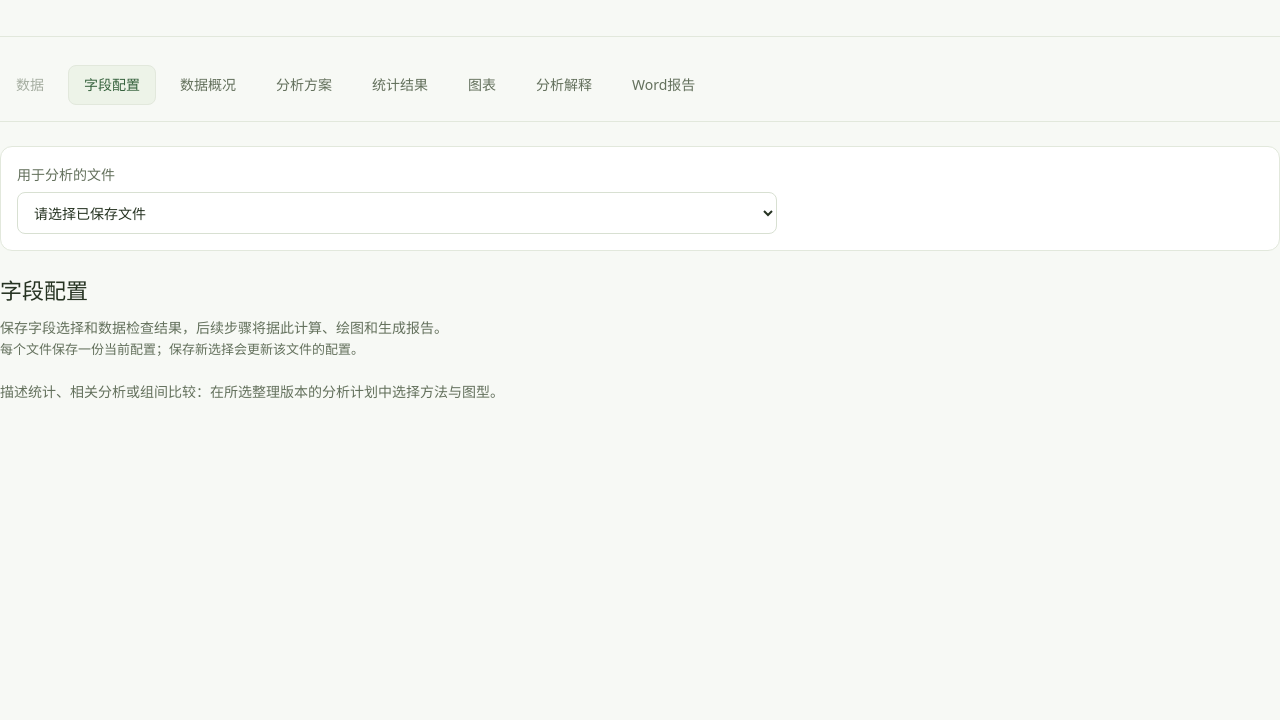
Test case: legacy configuration and results remain readable while execution requires explicitly saved dataset source
The width and height of the screenshot is (1280, 720).
Select "研究.xlsx · 2026/10/10 01:00:00" in the dropdown labelled "用于分析的文件": (397,213) [17,192,777,234]
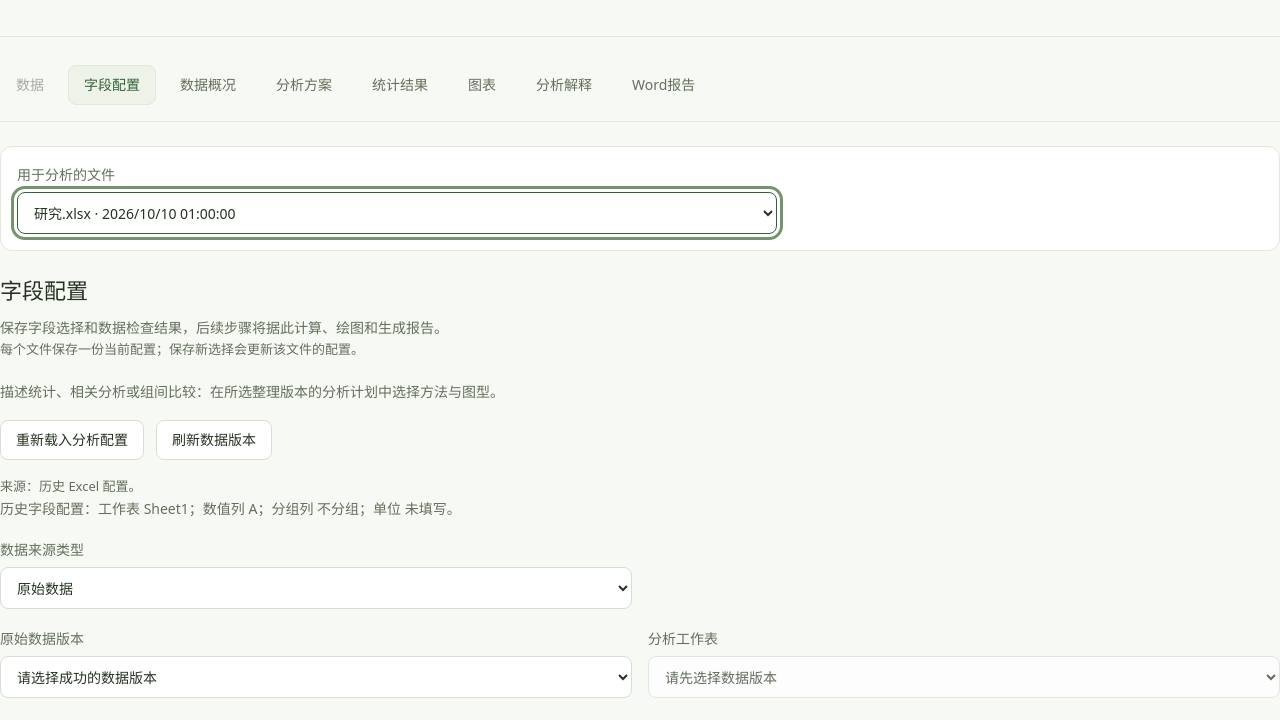
Now the dropdown labelled "原始数据版本" shows "请选择成功的数据版本", box [0,656,632,698]
Now the text "来源：历史 Excel 配置。" is shown, box [0,476,142,494]
Click the button "统计结果": (400,85) [356,65,444,105]
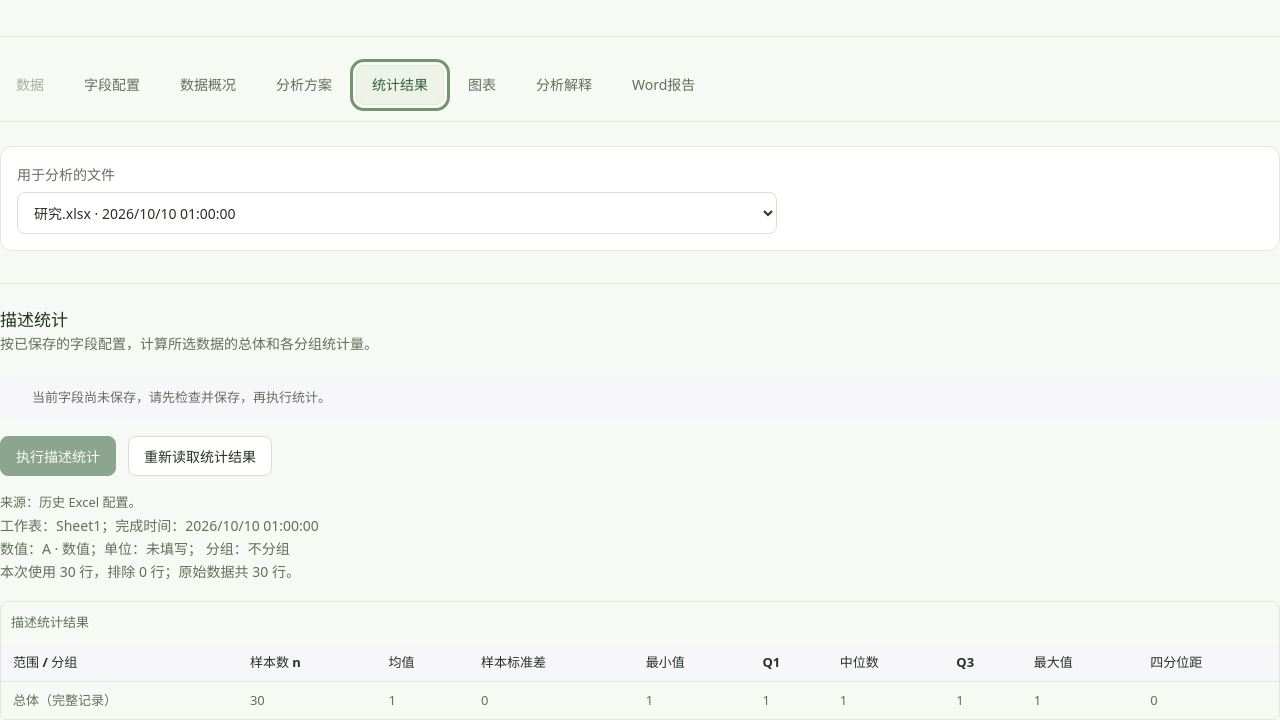
Now the table "描述统计结果" is shown, box [1,602,1279,719]
Now the button "执行描述统计" is disabled, box [0,436,116,476]
